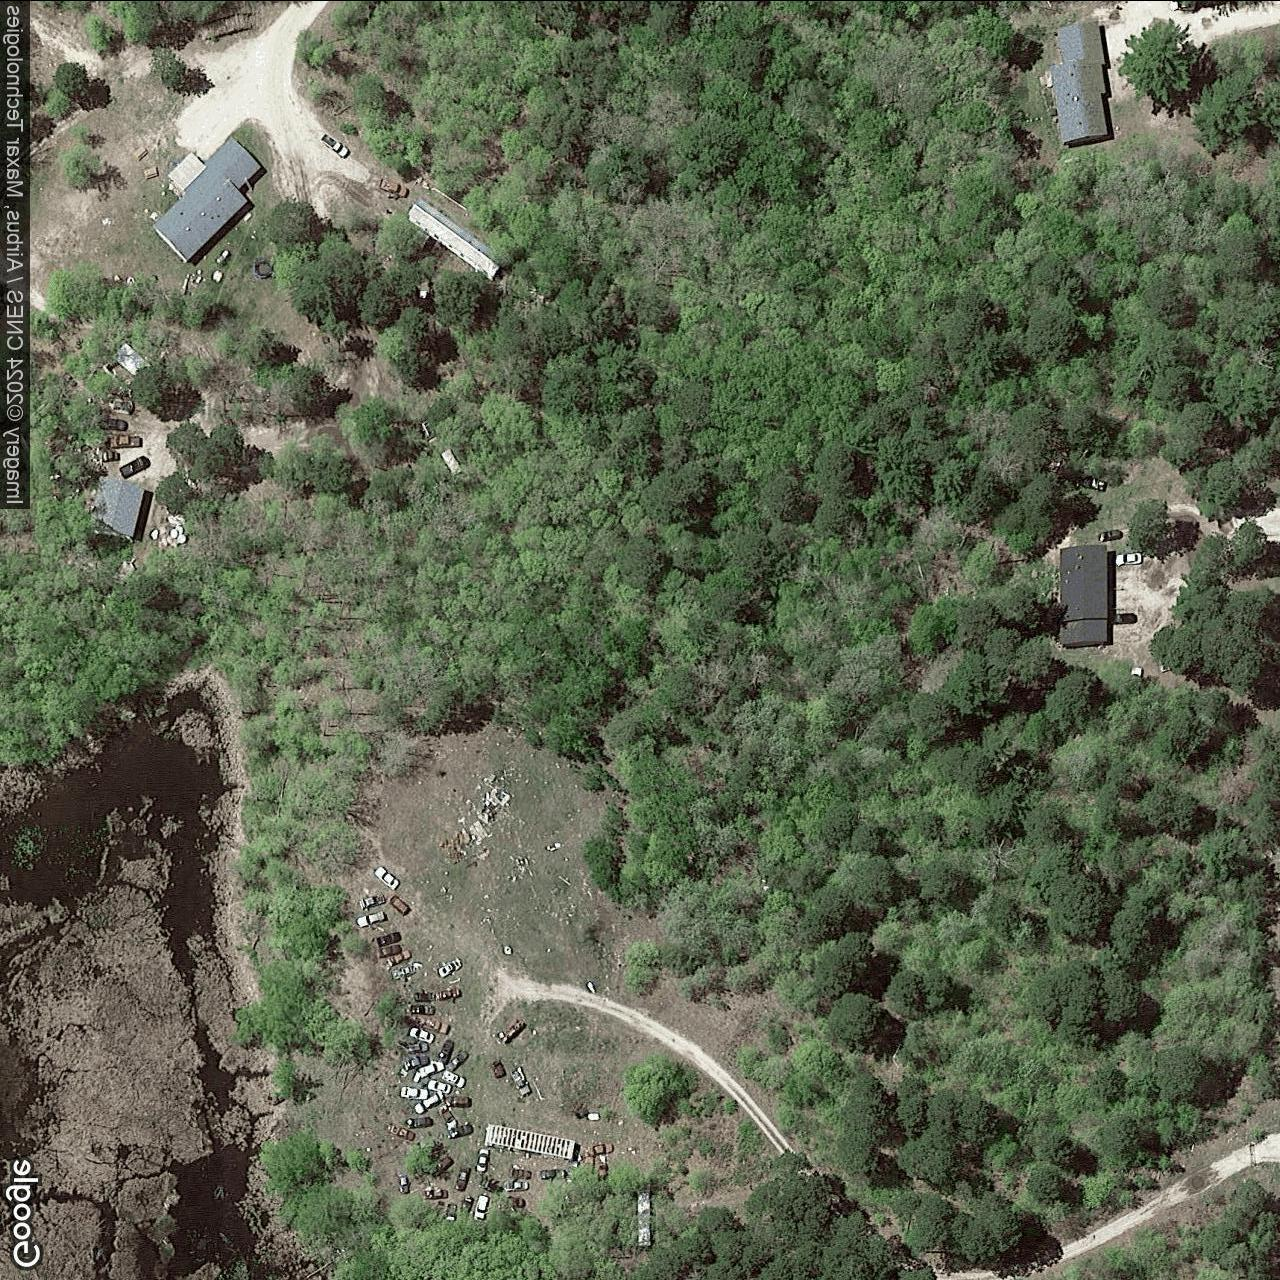Garage: (88, 476, 147, 538)
House: (152, 136, 263, 264), (1048, 19, 1109, 144), (1057, 543, 1108, 648)
Propane: (213, 245, 232, 264)
Trailer: (408, 195, 506, 279), (482, 1121, 577, 1160)
